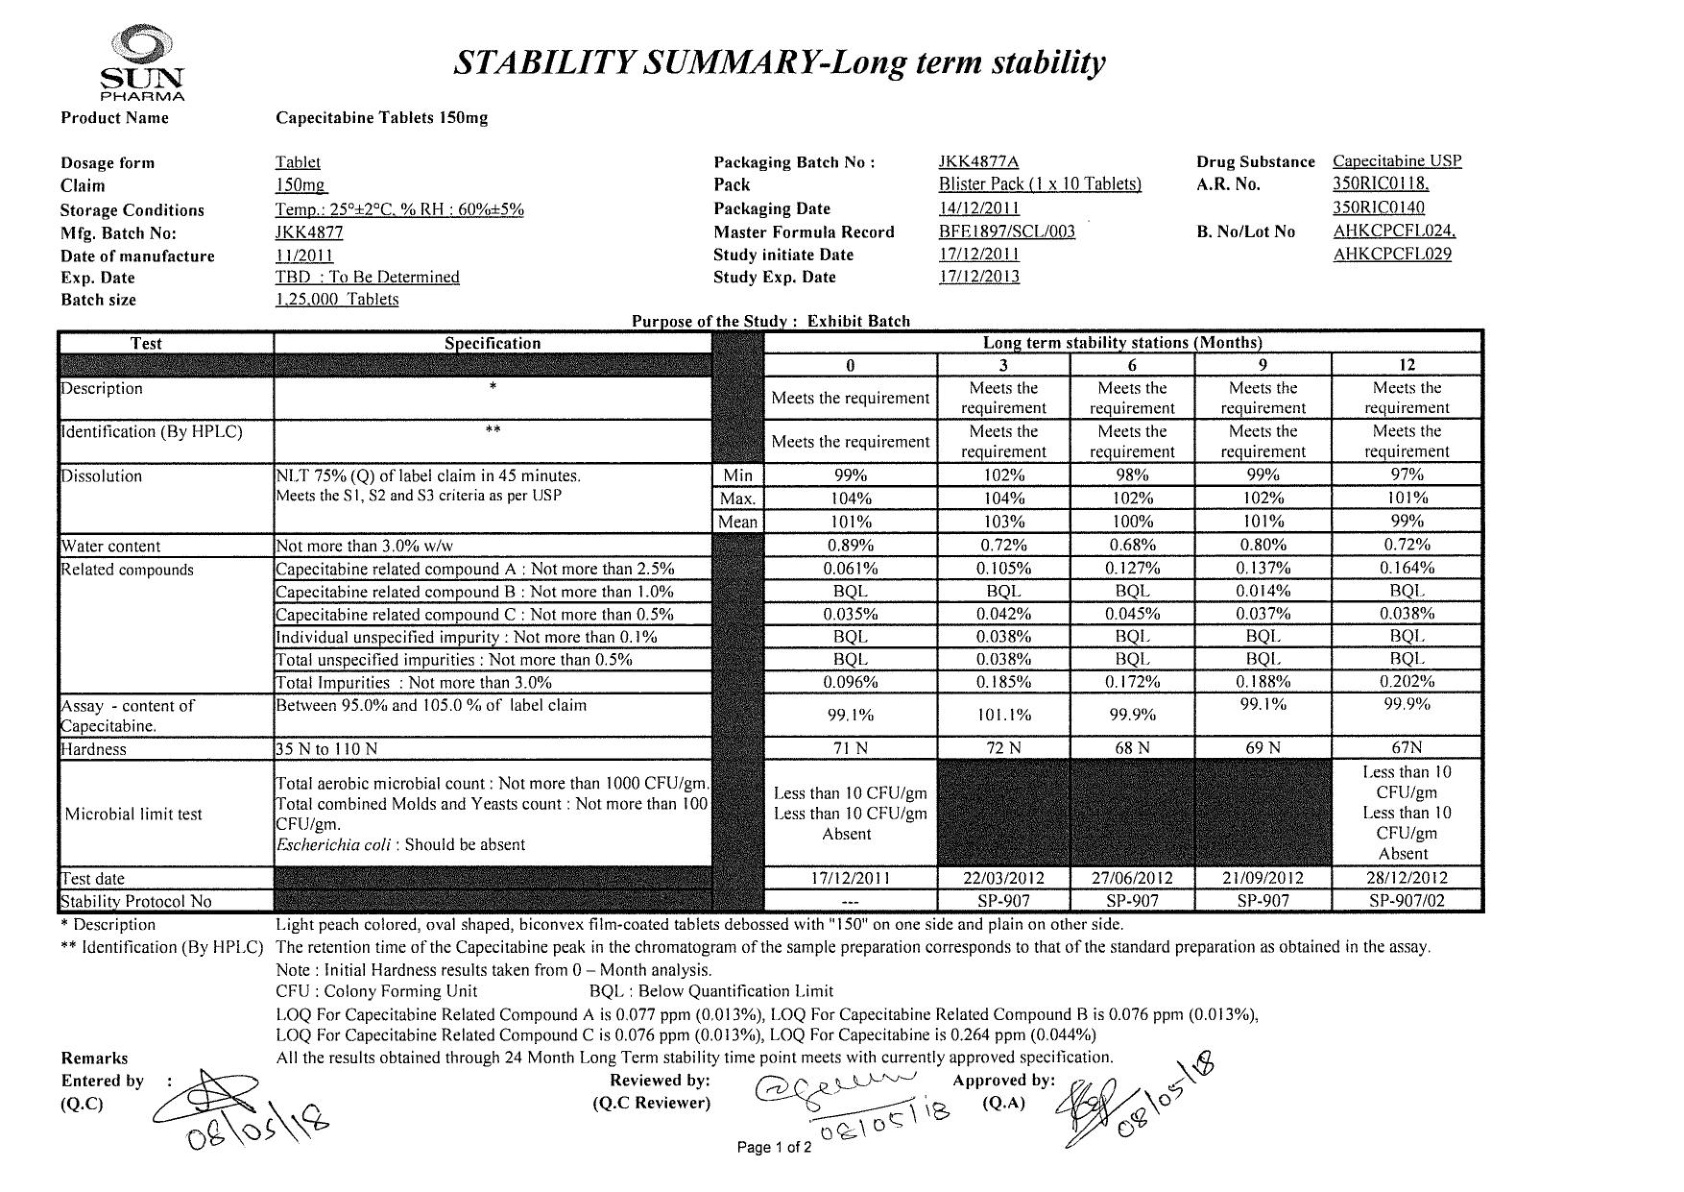merged_cells: (54, 326, 1485, 915)
nolines: (61, 154, 525, 310), (712, 152, 1142, 286), (1193, 151, 1464, 264)
